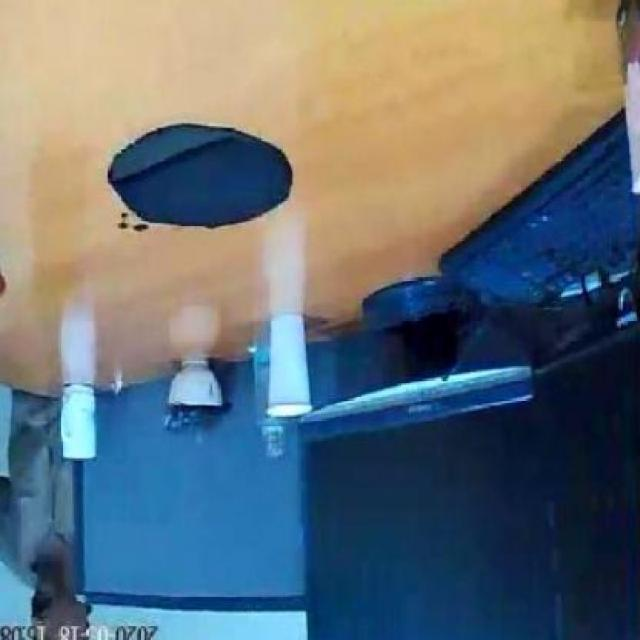spillage: (107, 119, 293, 231)
